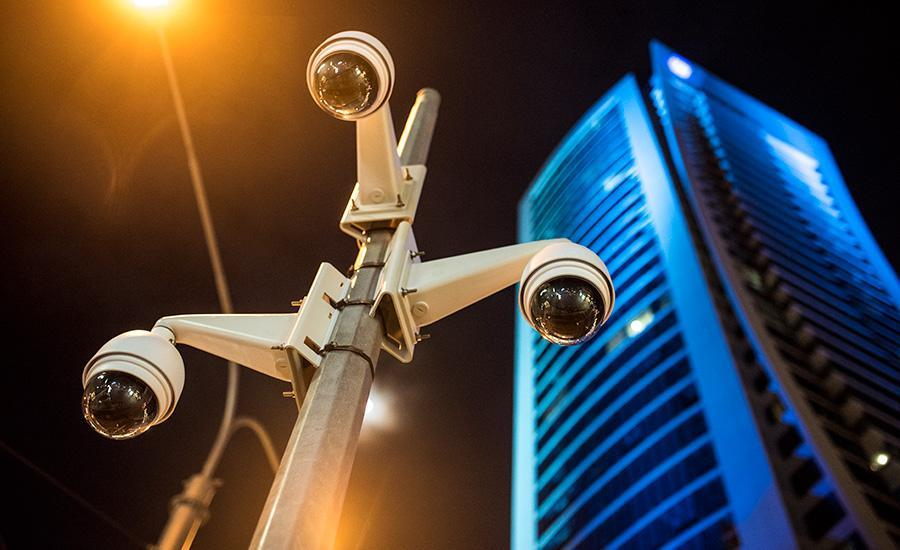camera: (489, 213, 663, 403), (59, 293, 219, 474), (254, 26, 430, 151)
